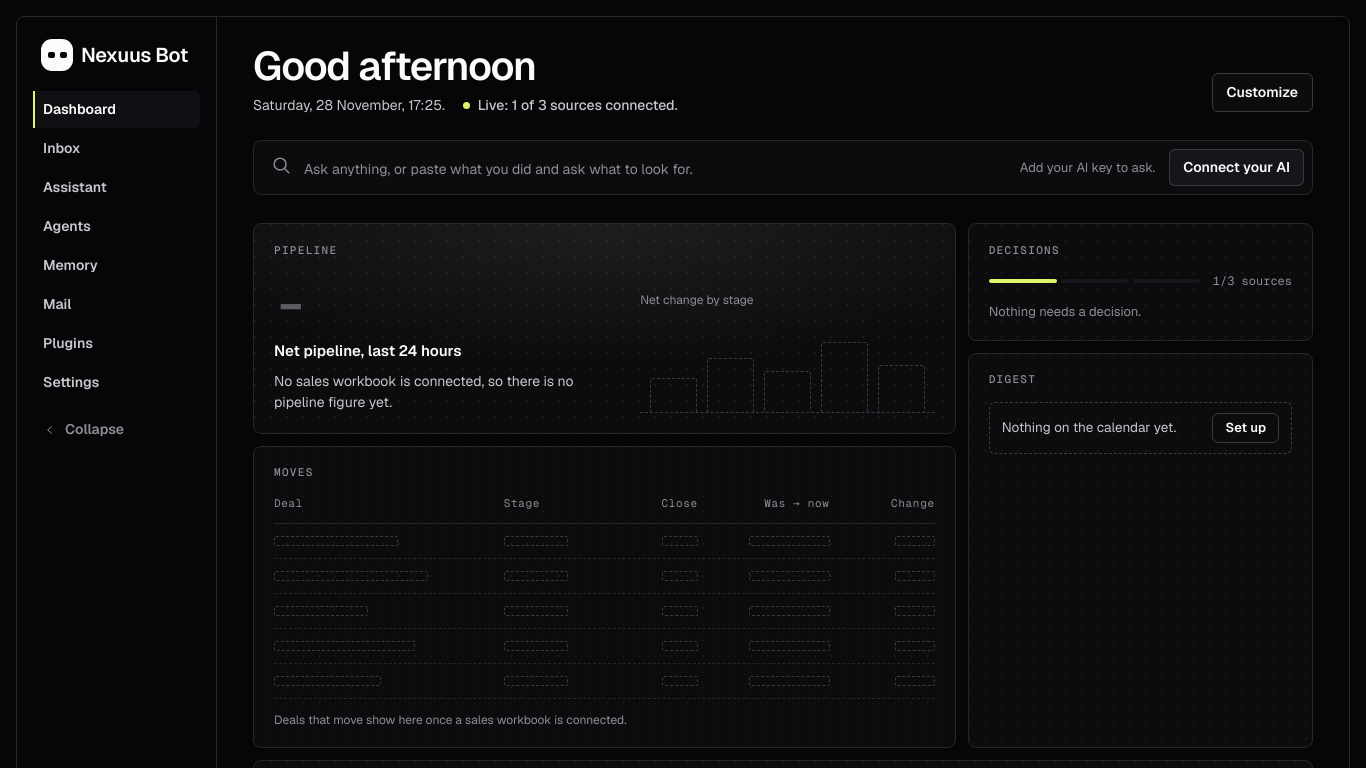
Test: entering and leaving customize › says so honestly when the layout read is unreachable
Step 1. Click the button "Customize" → (1262, 92), box [1212,73,1313,112]
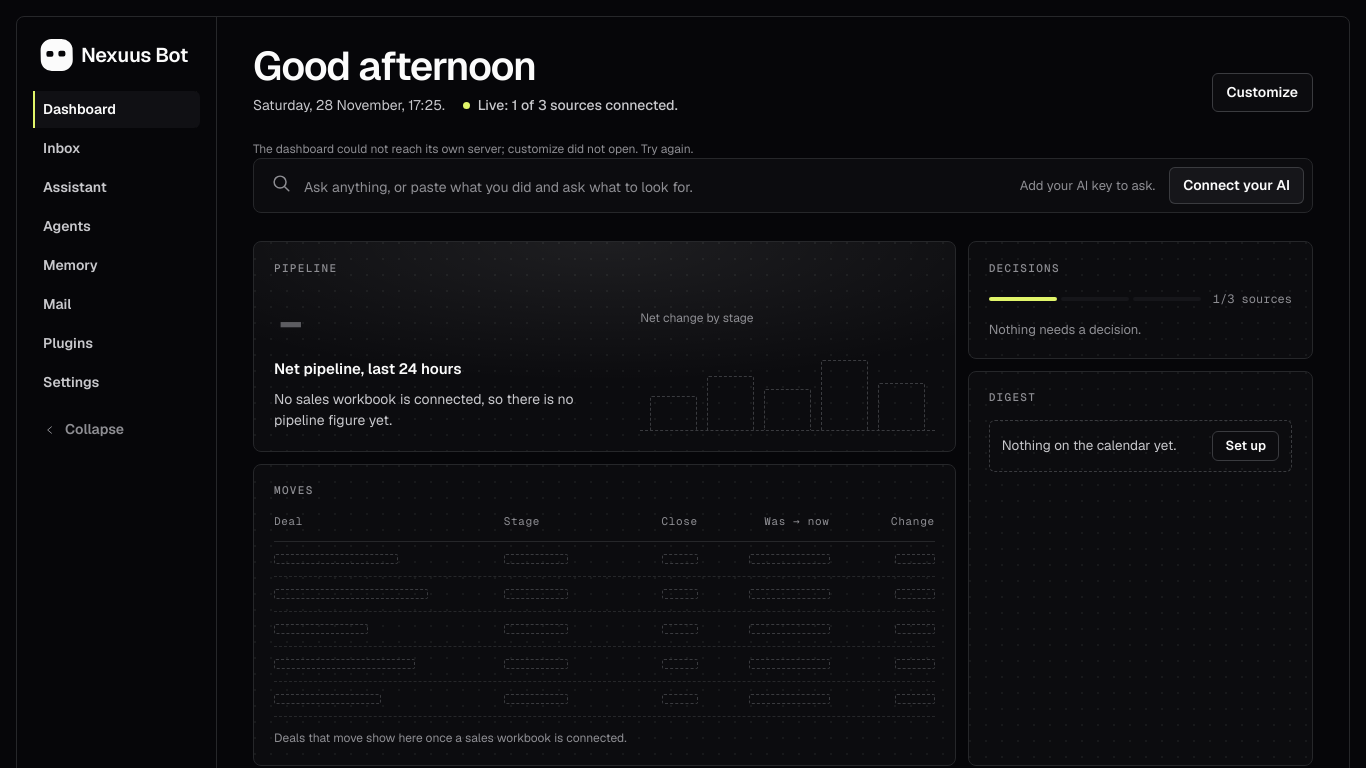
Result: the text "The dashboard could not reach its own server; customize did not open. Try again." is shown at [253,141,693,157]
